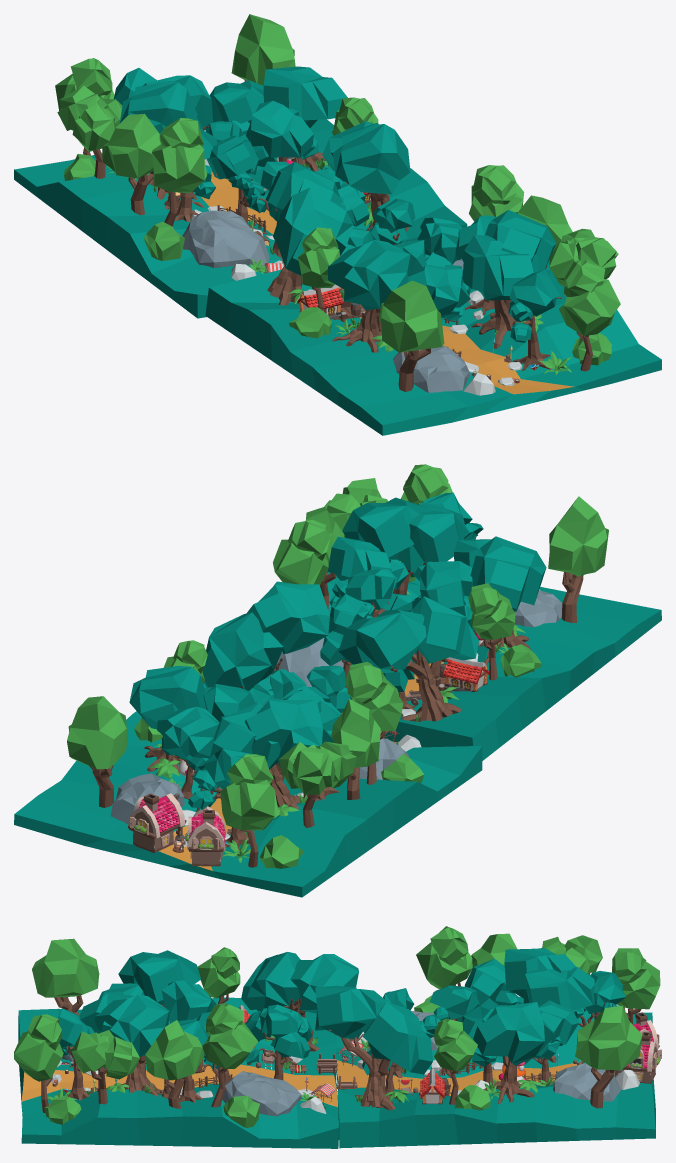
File: ForestPathPortfolioGrouped1.glb
3 views of the same model, one above another, from view 1: azimuth 30°, elevation 25°; view 2: azimuth 150°, elevation 25°; view 3: azimuth 270°, elevation 25° (orthographic). The views are drawn at different scales.
Visible parts, largest first — view 1: group403363102, group561706230, group889118584, plate_002.001, group1158573957, group1782538837.001, group438538056.001, group438538056; view 2: group403363102, plate_002.001, group561706230, group438538056, group1782538837.001, group1158573957; view 3: group403363102, plate_002.001, group561706230, group889118584, group1158573957.001, group438538056.001, group1782538837.
Boxes of the visible parts, left/top/right/bottom form: group403363102: left=14, top=14, right=661, bottom=435; group561706230: left=182, top=210, right=470, bottom=392; group889118584: left=190, top=130, right=522, bottom=395; plate_002.001: left=263, top=157, right=538, bottom=383; group1158573957: left=144, top=221, right=184, bottom=260; group1782538837.001: left=289, top=307, right=332, bottom=338; group438538056.001: left=572, top=333, right=611, bottom=365; group438538056: left=64, top=154, right=95, bottom=180; group403363102: left=14, top=464, right=661, bottom=897; plate_002.001: left=128, top=633, right=489, bottom=866; group561706230: left=110, top=590, right=562, bottom=824; group438538056: left=259, top=835, right=302, bottom=868; group1782538837.001: left=500, top=644, right=541, bottom=677; group1158573957: left=381, top=753, right=424, bottom=783; group403363102: left=14, top=926, right=660, bottom=1148; plate_002.001: left=52, top=1005, right=661, bottom=1105; group561706230: left=61, top=1010, right=620, bottom=1116; group889118584: left=50, top=1032, right=639, bottom=1113; group1158573957.001: left=223, top=1095, right=260, bottom=1127; group438538056.001: left=44, top=1096, right=81, bottom=1124; group1782538837: left=454, top=1085, right=490, bottom=1110.
Bounding box in the file's own units: 39.02 × 19.27 × 86.22.
10 materials, 1 textured.
